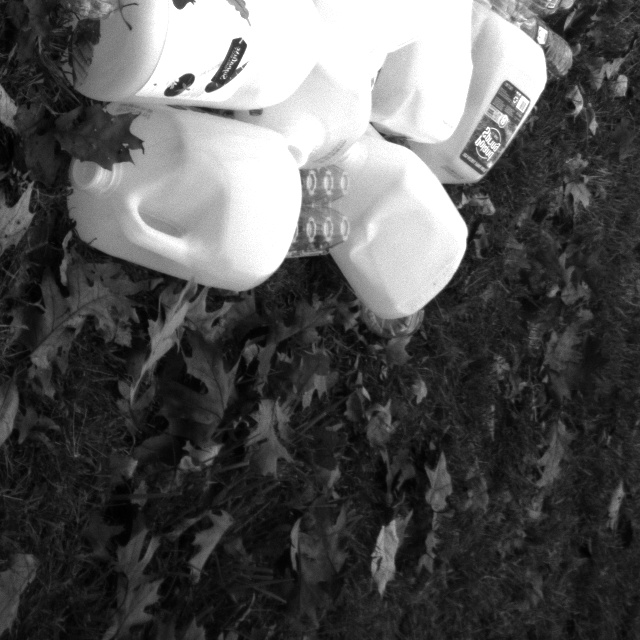bottle: (511, 13, 574, 79)
can: (65, 98, 304, 290), (305, 125, 472, 321), (59, 0, 320, 110), (399, 0, 548, 188), (367, 0, 475, 145), (301, 0, 459, 54)
container: (283, 158, 348, 258)
